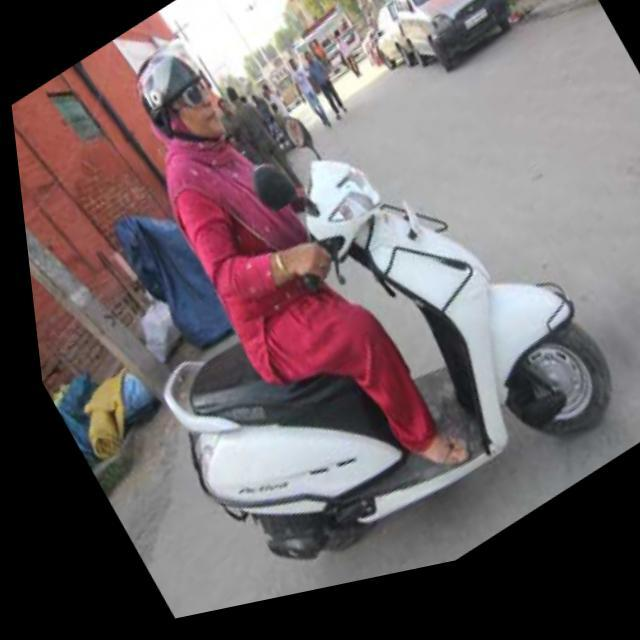Helmet: (133, 46, 229, 154)
